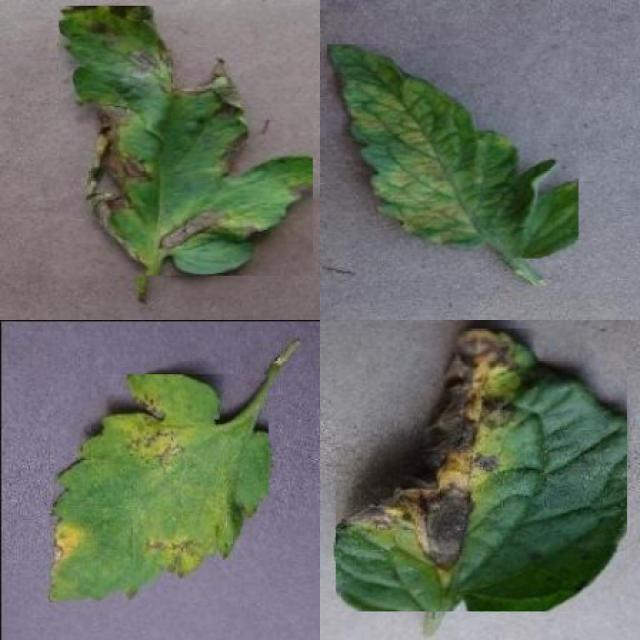Early Blight: (336, 329, 628, 612), (58, 6, 313, 276)
Leaf Mold: (327, 45, 579, 259)
Septoria: (48, 374, 268, 602)
